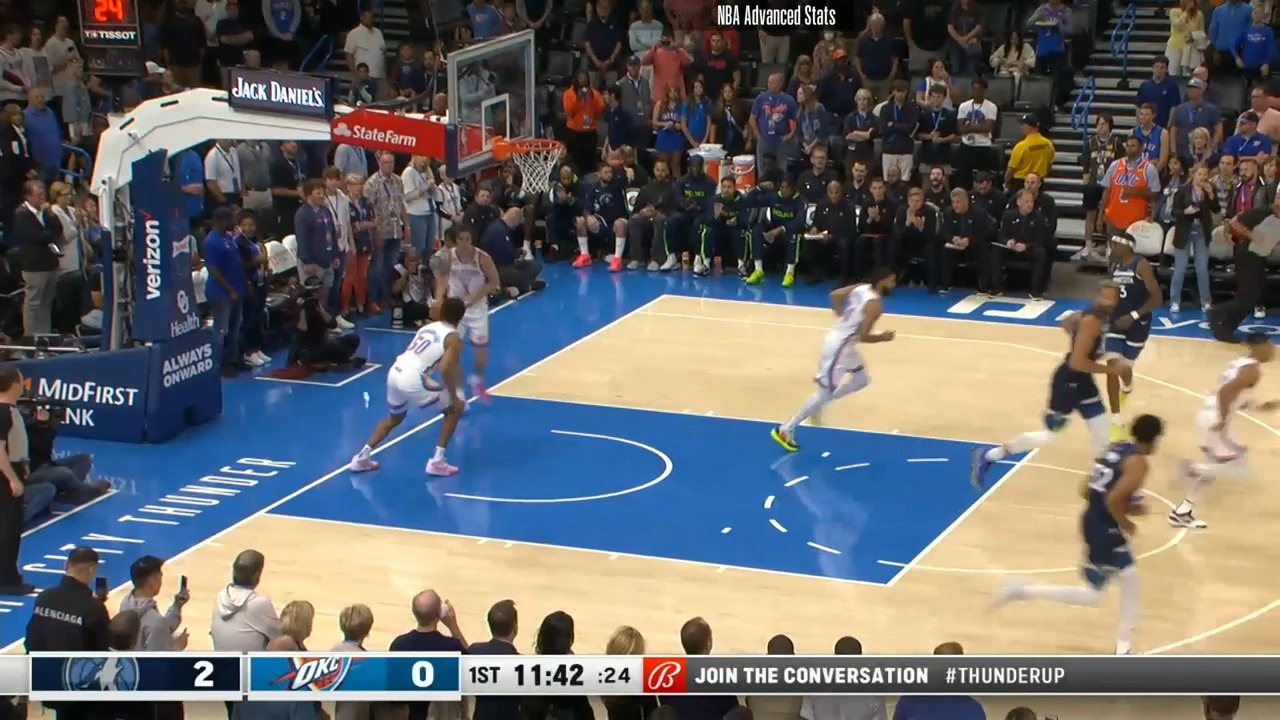net: (486, 126, 568, 197)
player: (992, 406, 1178, 651), (971, 262, 1143, 497), (774, 271, 910, 466), (354, 291, 482, 489), (1173, 331, 1280, 536), (424, 222, 498, 409), (1102, 226, 1169, 418)
referee: (1223, 187, 1280, 341), (1, 364, 32, 596)
